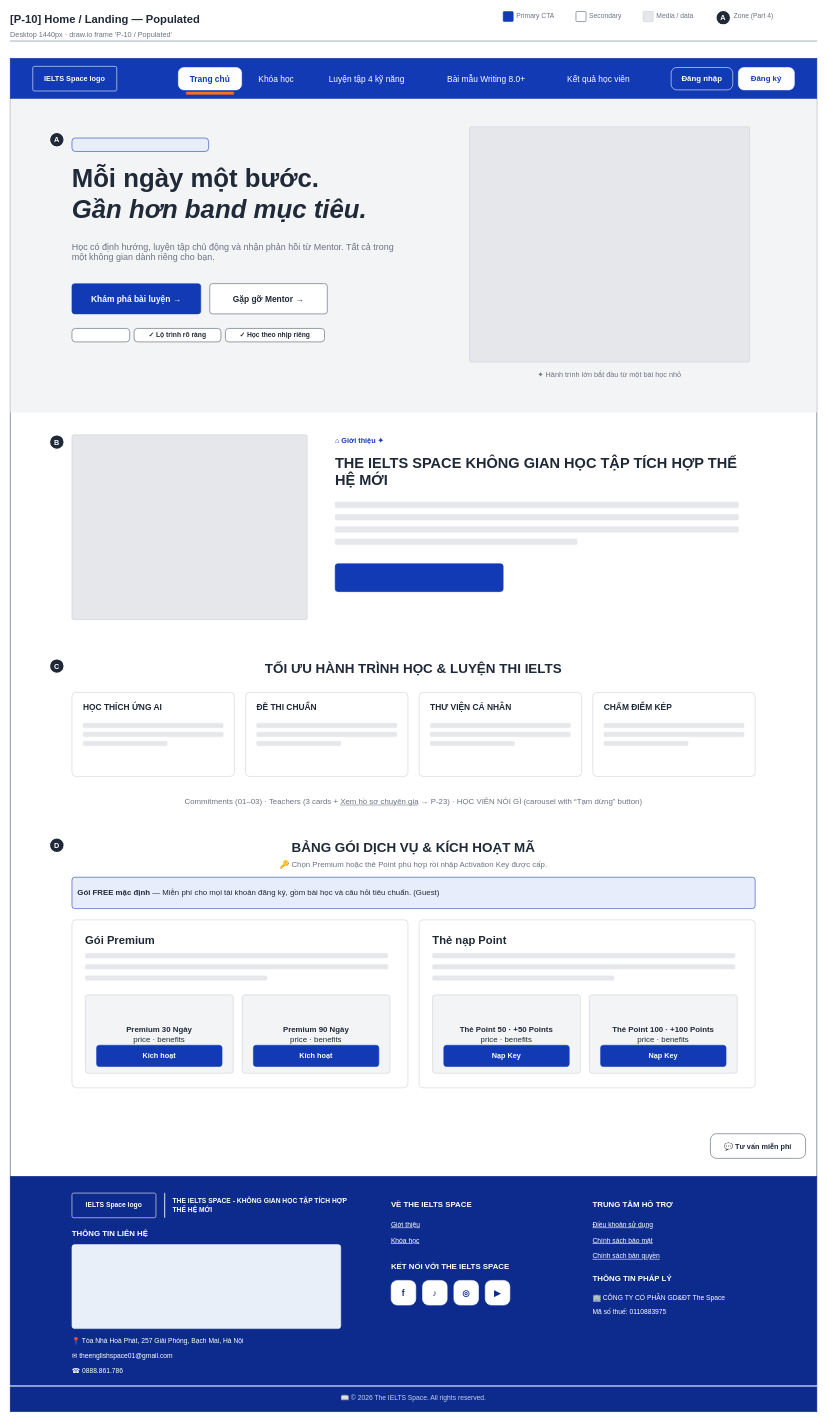
This 827x1421 diagram has some shape labels left out. Here are the shapes that lost their labels. From the top down, the centre of each, then its label:
At pixel 140 144: "✦ KHÔNG GIAN HỌC IELTS CỦA BẠN".
At pixel 609 244: "▨ Hero visual".
At pixel 100 335: "✓ 4 kỹ năng".
At pixel 189 527: "▨ Introduction image + 4 highlights".
At pixel 419 577: "Xem thêm về The IELTS Space →".
At pixel 206 1286: "📍 The IELTS Space Mở trong Maps ↗".
